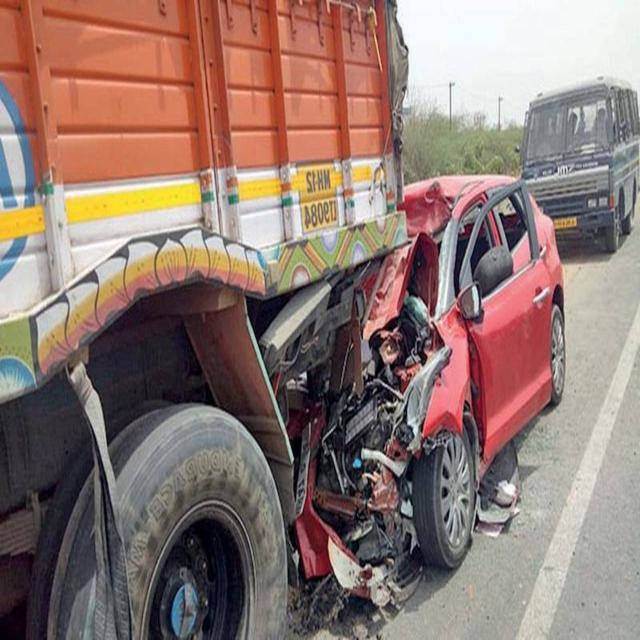accident: (281, 176, 566, 633)
bus: (521, 78, 640, 253)
